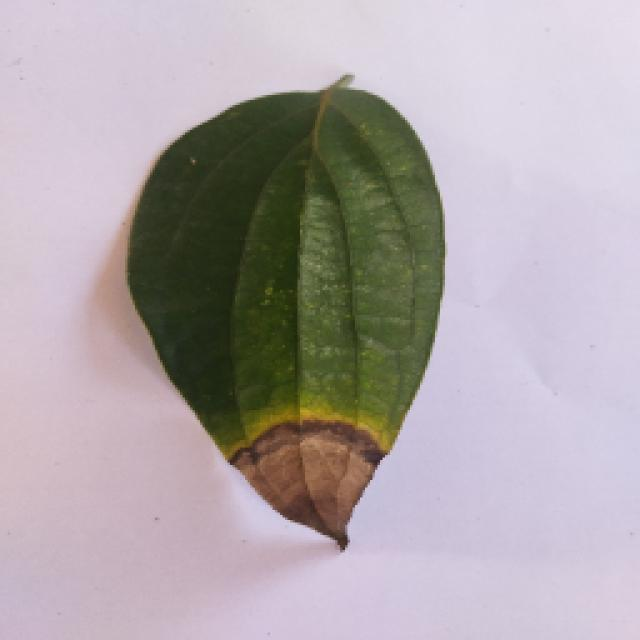footrot: (120, 75, 445, 550)
